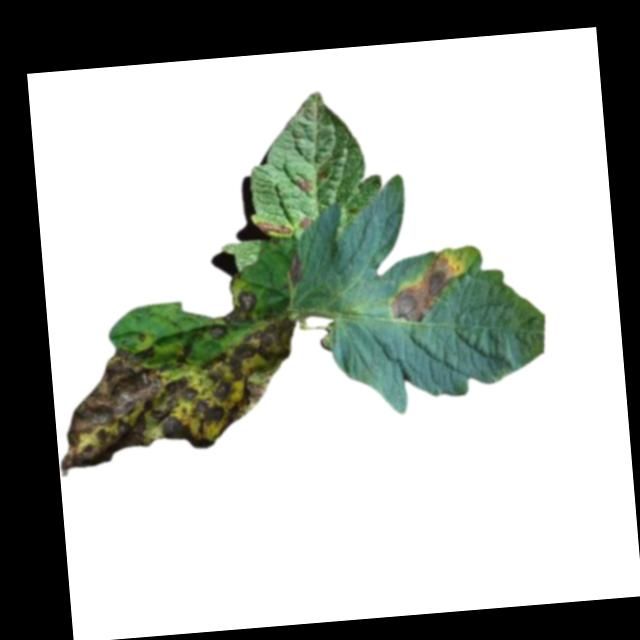Early_blight: (53, 319, 307, 476), (382, 248, 465, 327), (207, 287, 258, 327), (252, 218, 292, 236), (284, 254, 305, 285), (293, 172, 315, 193), (297, 216, 313, 230)
